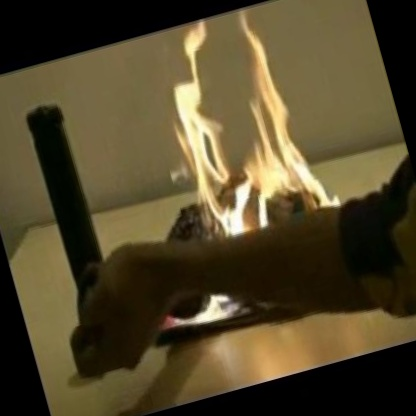fire: (135, 6, 325, 264)
